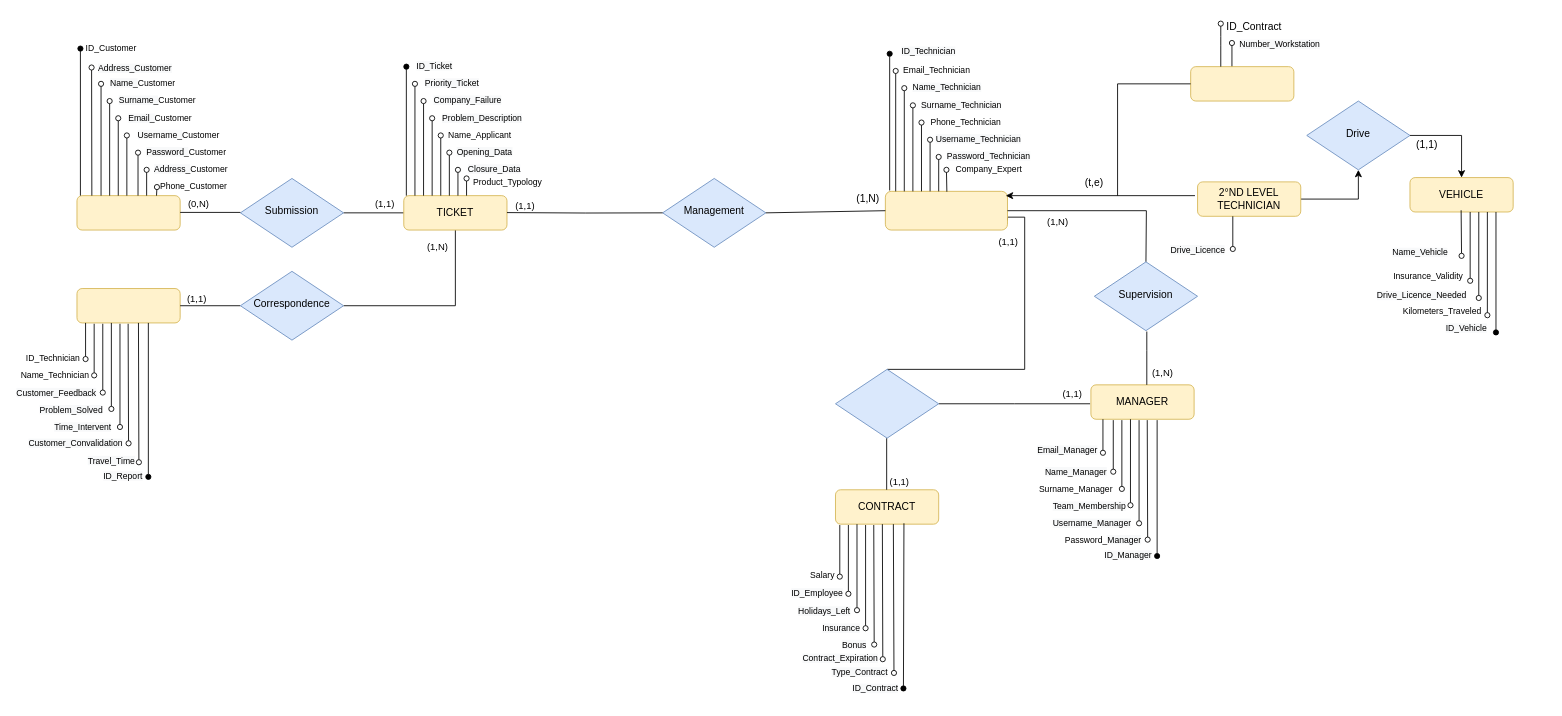
Image size: 1562x716. Some labels were removed from this diagram. The shapes that lost their labels are listed below. From the top down, each one's centre as x and y in pixels, then its label:
point (1242, 83): 1°ST LEVEL TECHNICIAN
point (128, 212): CUSTOMER
point (946, 210): Tecnician
point (128, 305): REPORT
point (887, 403): Sign
